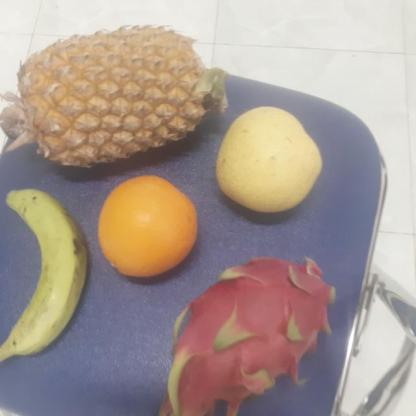banana: (0, 190, 88, 361)
guava: (216, 109, 324, 214), (96, 175, 200, 279)
pineapple: (14, 28, 216, 168)
pitaya: (157, 255, 342, 416)
